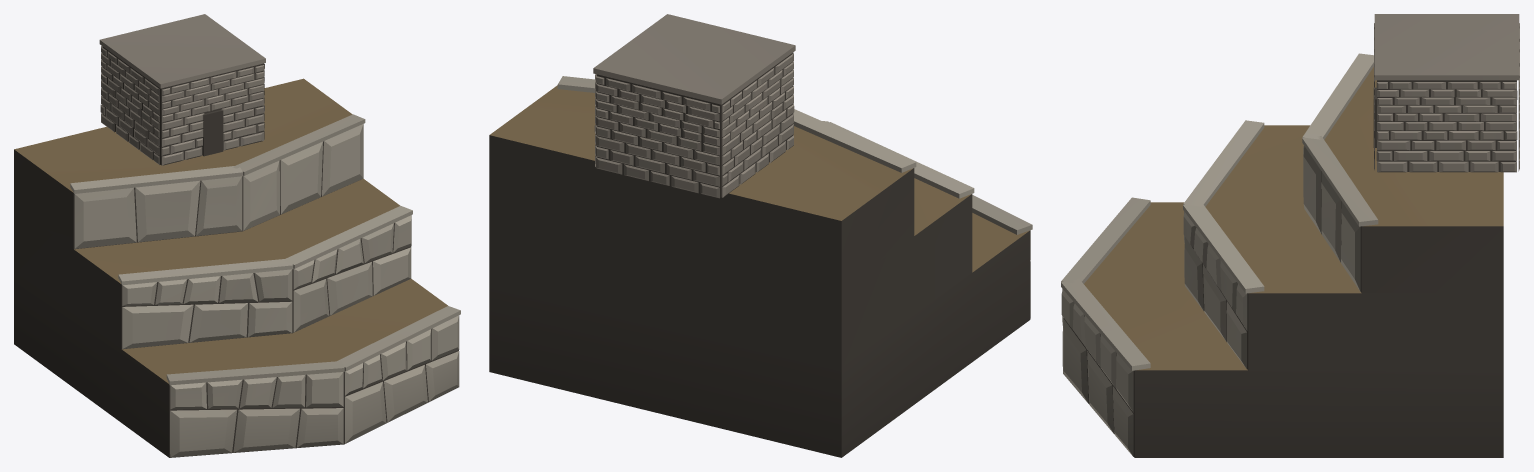
File: cusco_sacsay_square_lod0.glb
3 views of the same model, side by side, from view 1: azimuth 30°, elevation 25°; view 2: azimuth 150°, elevation 25°; view 3: azimuth 270°, elevation 25° (orthographic). The views are drawn at different scales.
Visible parts, largest first — view 1: GEO-Arch_cusco_sacsay_square_LOD0; view 2: GEO-Arch_cusco_sacsay_square_LOD0; view 3: GEO-Arch_cusco_sacsay_square_LOD0.
Part boxes in pixels (x1,y1,x2,y2): GEO-Arch_cusco_sacsay_square_LOD0: [14, 14, 460, 457]; GEO-Arch_cusco_sacsay_square_LOD0: [489, 14, 1032, 457]; GEO-Arch_cusco_sacsay_square_LOD0: [1061, 14, 1519, 457].
Size of the model in its own units: 14.07 by 12.8 by 16.17.
